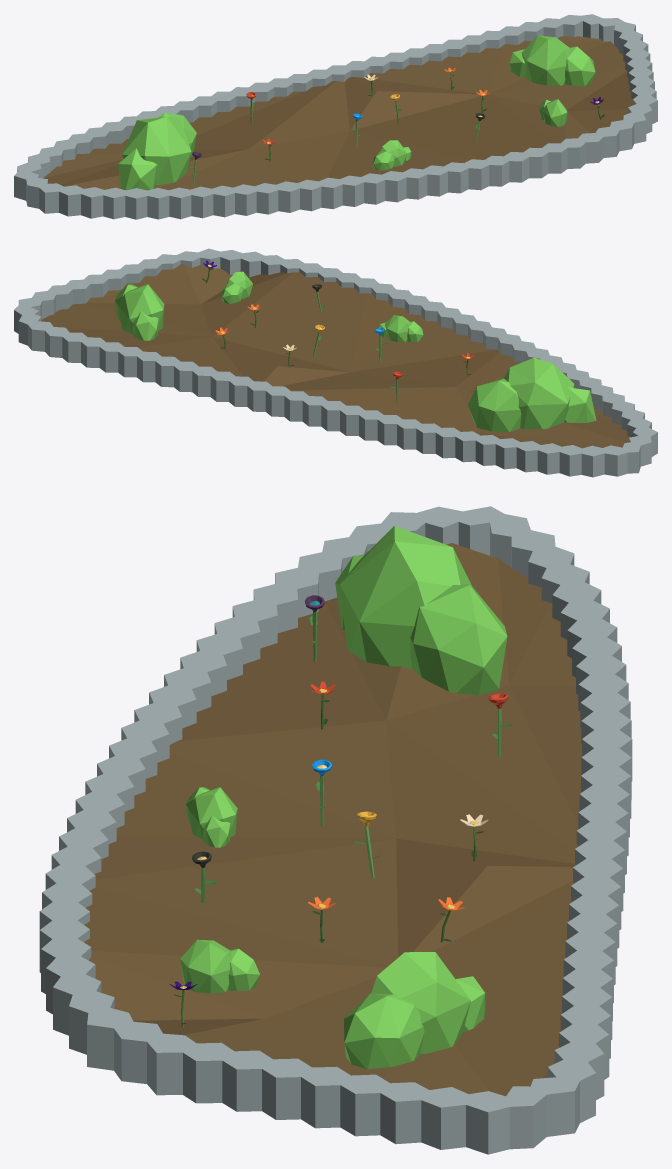
File: FlowerBed_C.fbx
The picture shows the model from 3 angles, top to bottom: view 1: azimuth 30°, elevation 25°; view 2: azimuth 150°, elevation 25°; view 3: azimuth 270°, elevation 25°; orthographic projection. The views are drawn at different scales.
Visible parts, largest first — view 1: FlowerBed_C; view 2: FlowerBed_C; view 3: FlowerBed_C.
Part boxes in pixels (box(x1,y1,x2,y2)): FlowerBed_C: box(14, 14, 657, 219); FlowerBed_C: box(14, 248, 657, 477); FlowerBed_C: box(39, 506, 632, 1154).
Bounding box in the file's own units: 283 × 29 × 117.
